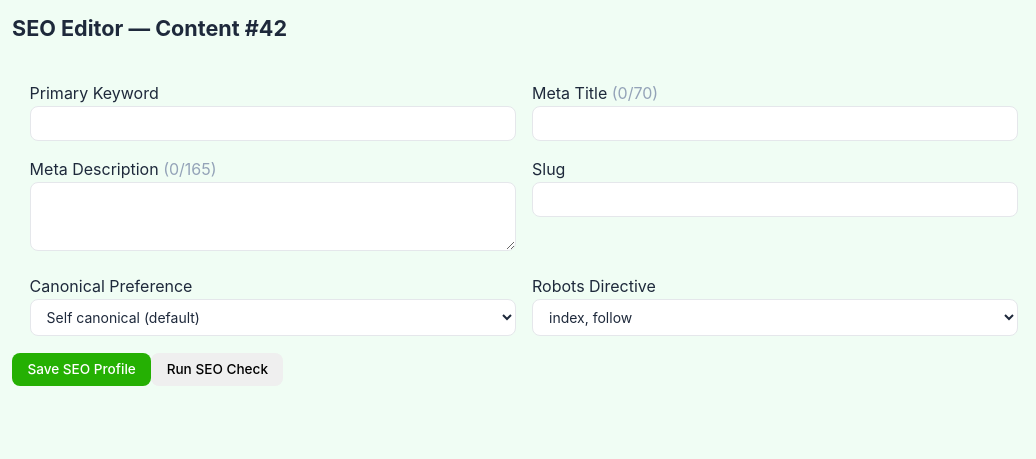
Test: SeoEditorPage › shows success message after save
Click the button "Save SEO Profile". click: (82, 370)
box: [12,353,151,386]
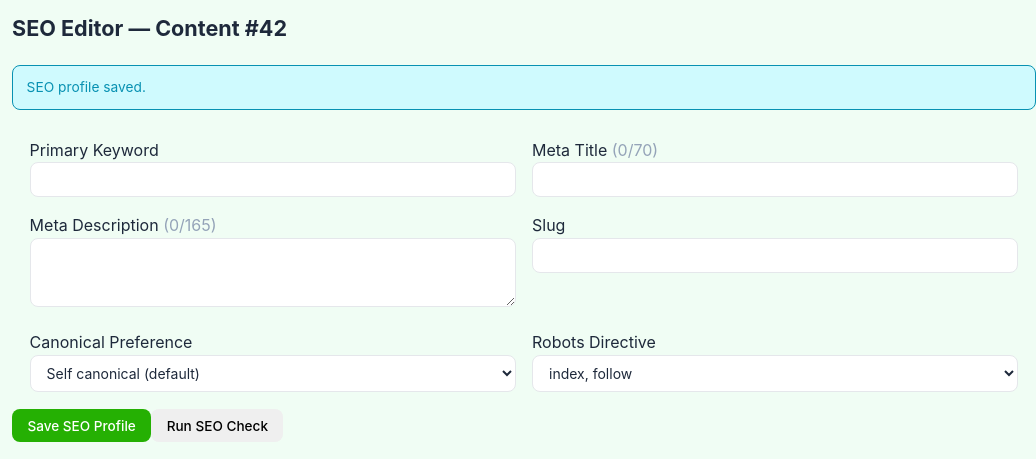
Expected: the text "SEO profile saved." is shown, [12,66,1035,110]
